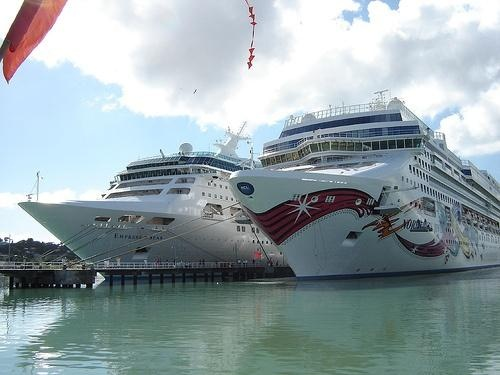boat: (228, 89, 500, 284), (17, 121, 296, 283)
